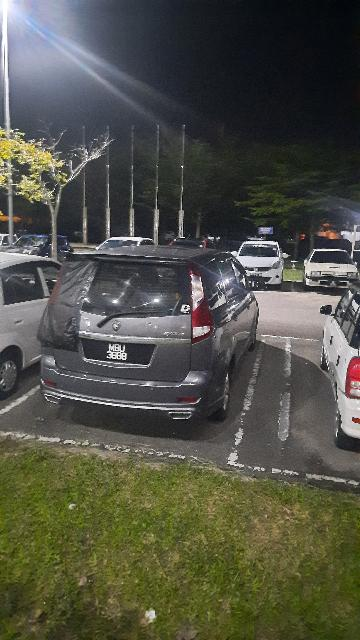License_Plate: (79, 334, 160, 368)
car: (40, 245, 269, 423)
